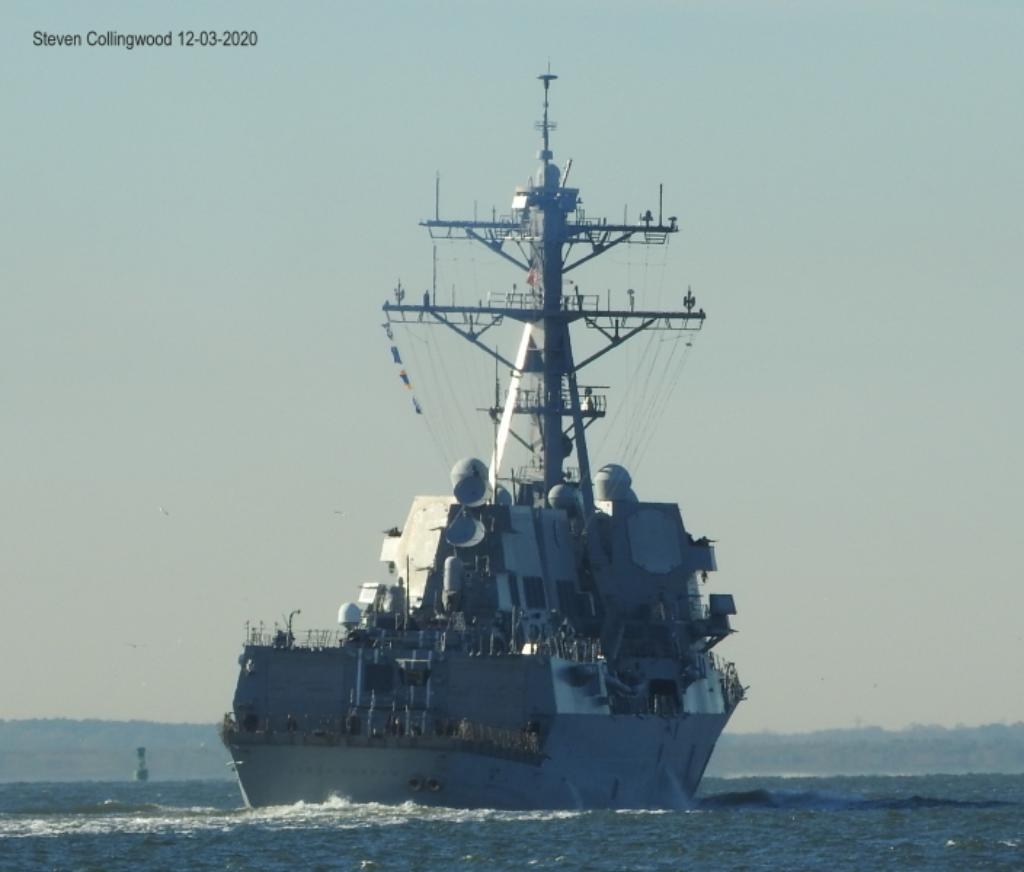Warship: (218, 65, 750, 817)
